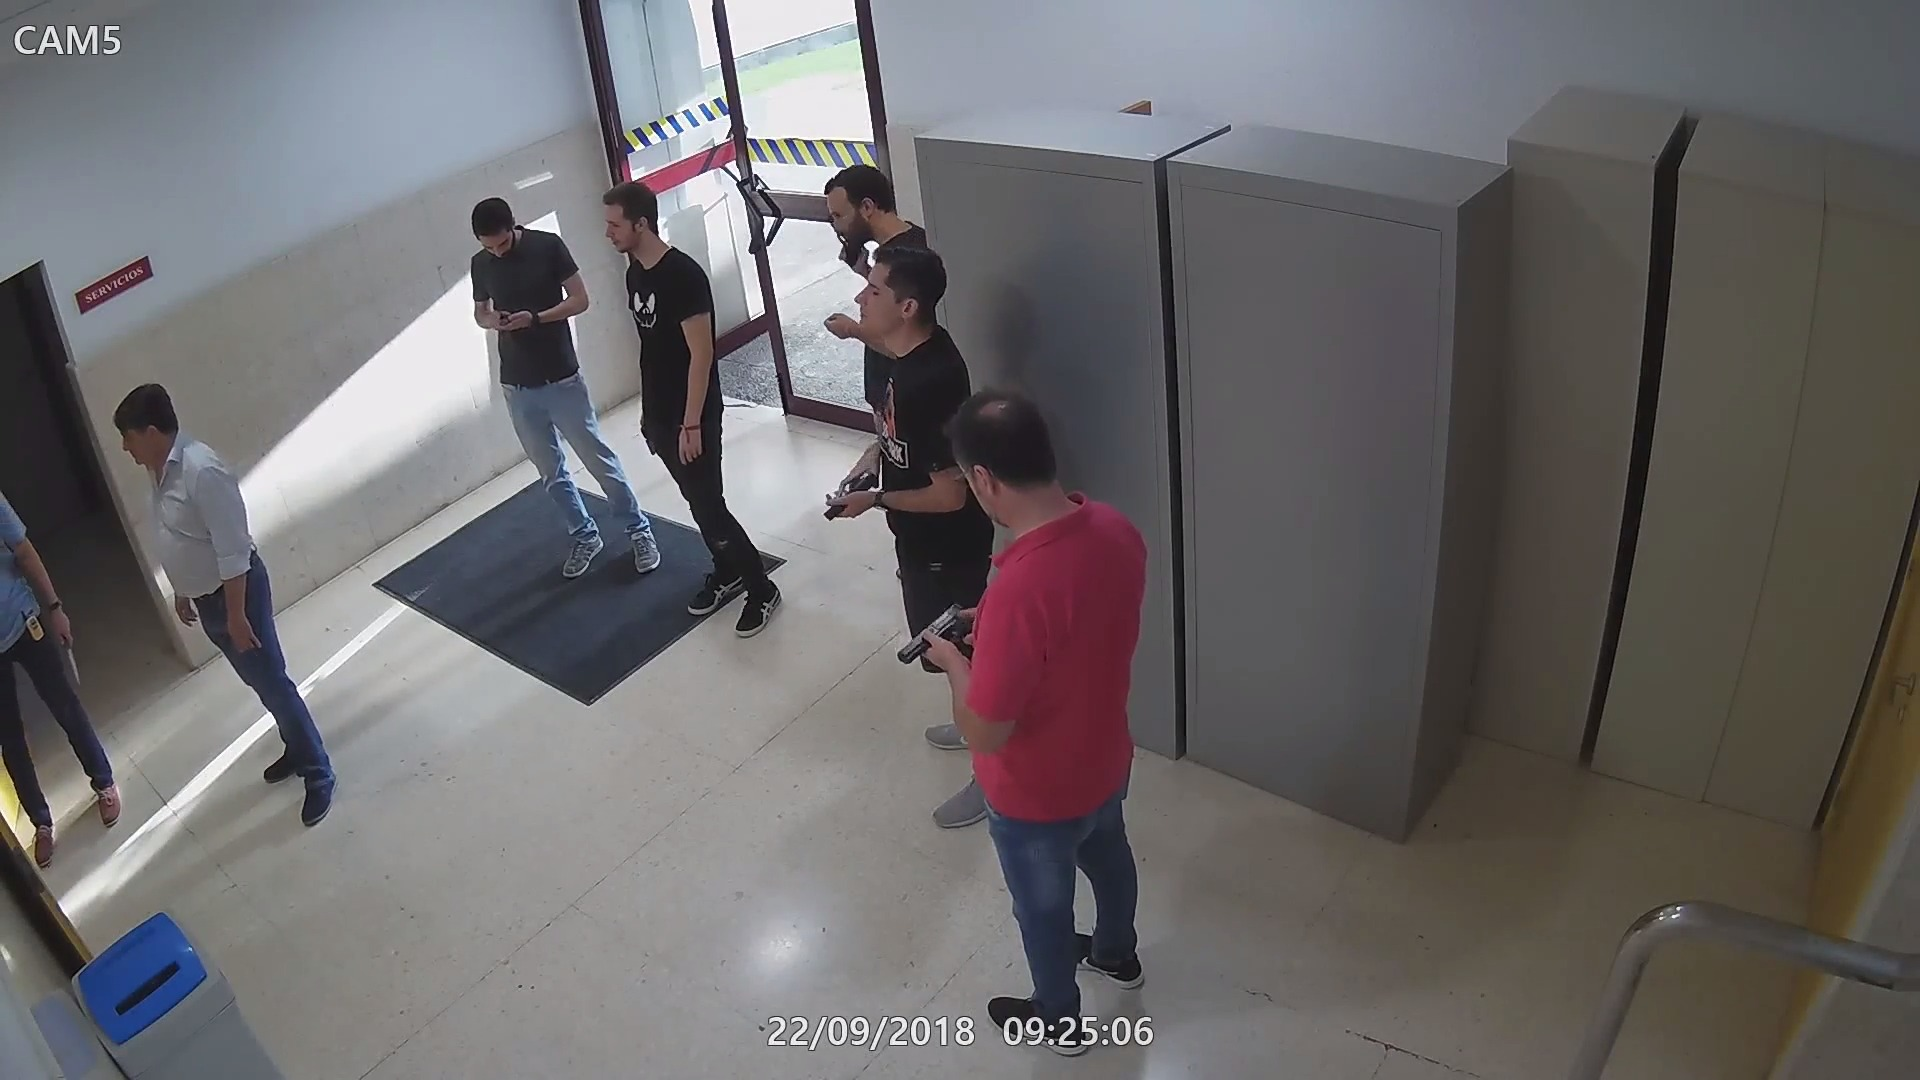Handgun: (887, 604, 978, 679), (814, 202, 876, 278), (815, 469, 884, 524), (481, 309, 545, 335), (636, 407, 663, 462)
Knife: (47, 611, 91, 683)
